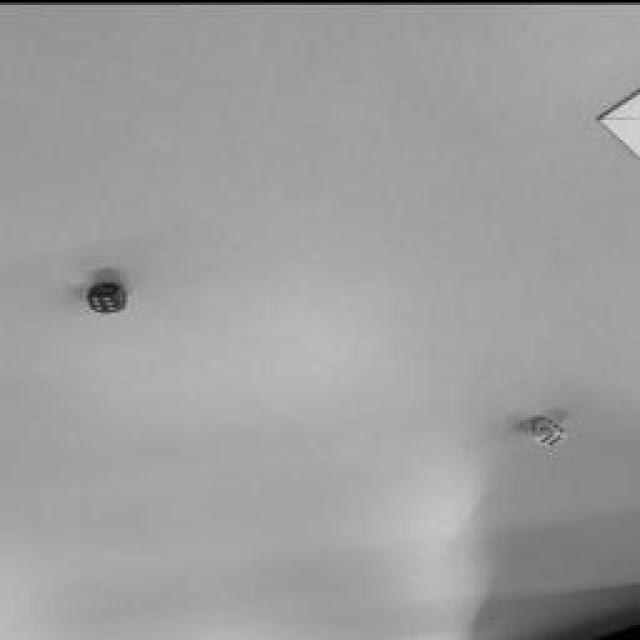dice_6: (89, 291, 119, 309), (537, 428, 565, 442)
